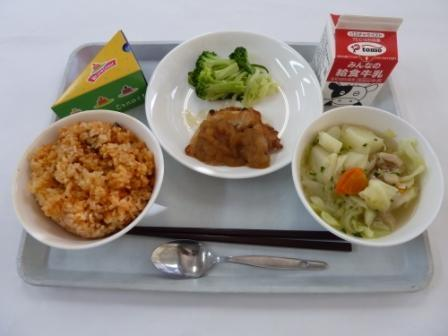Milk: (308, 14, 408, 117)
Mixed rice: (10, 120, 157, 243)
Salad: (192, 43, 278, 104)
Soups: (297, 105, 445, 246)
cooked food based on meat: (178, 98, 280, 173)
